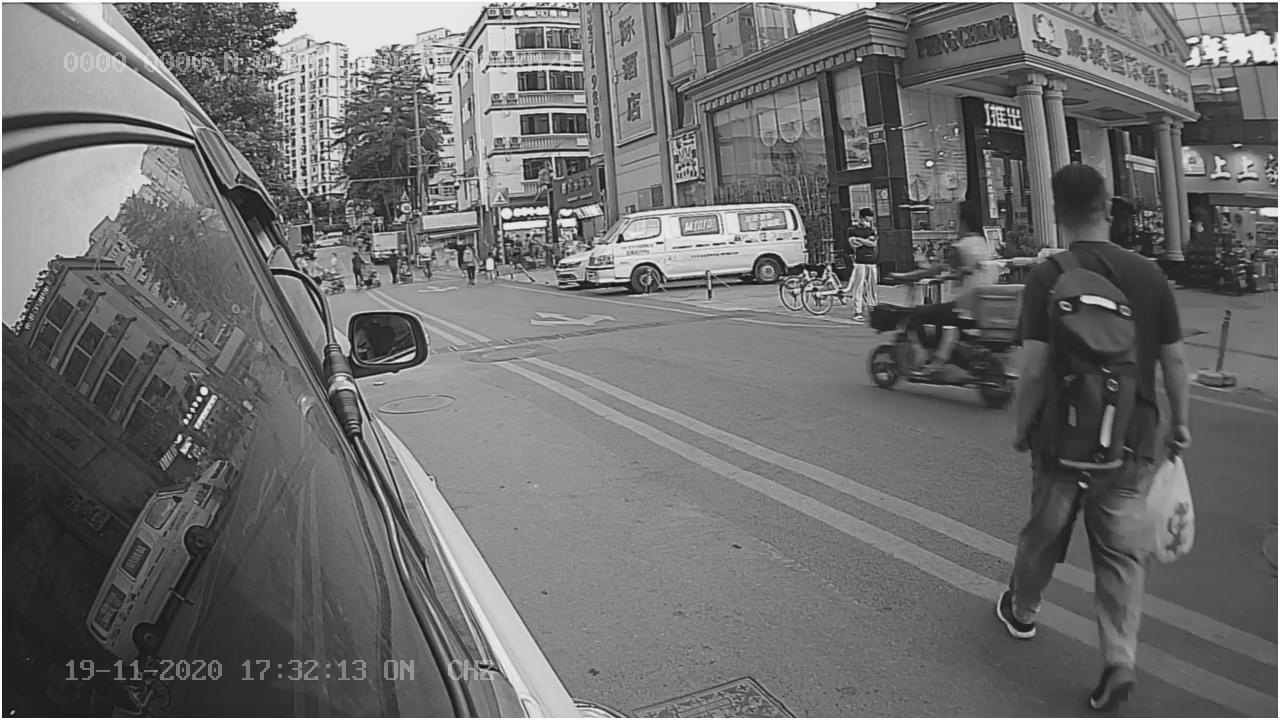person: (1008, 167, 1173, 626)
